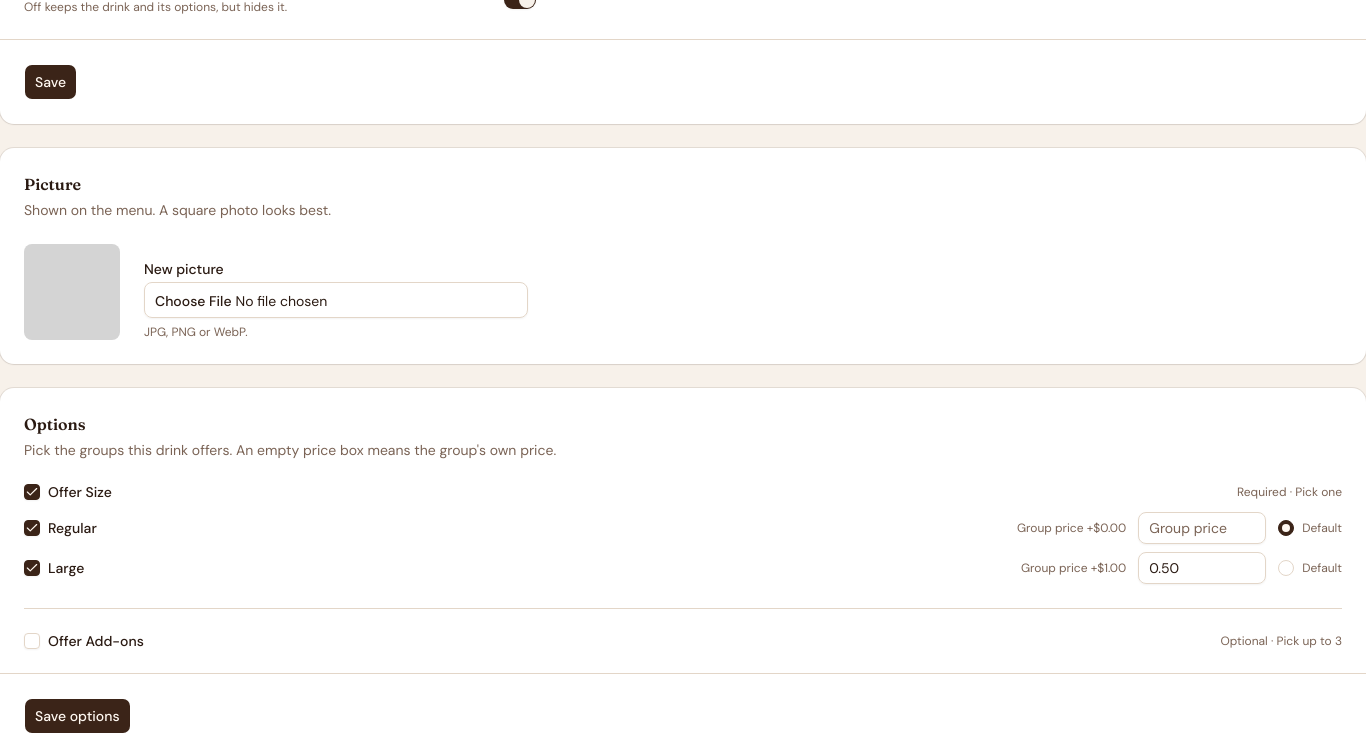
Test: ProductEditPage options (FR-26) › shows the server message when the default is not offered
The image size is (1366, 739).
(page scrolled)
Click the button "Save options" at (77, 716), box [24, 698, 131, 734]
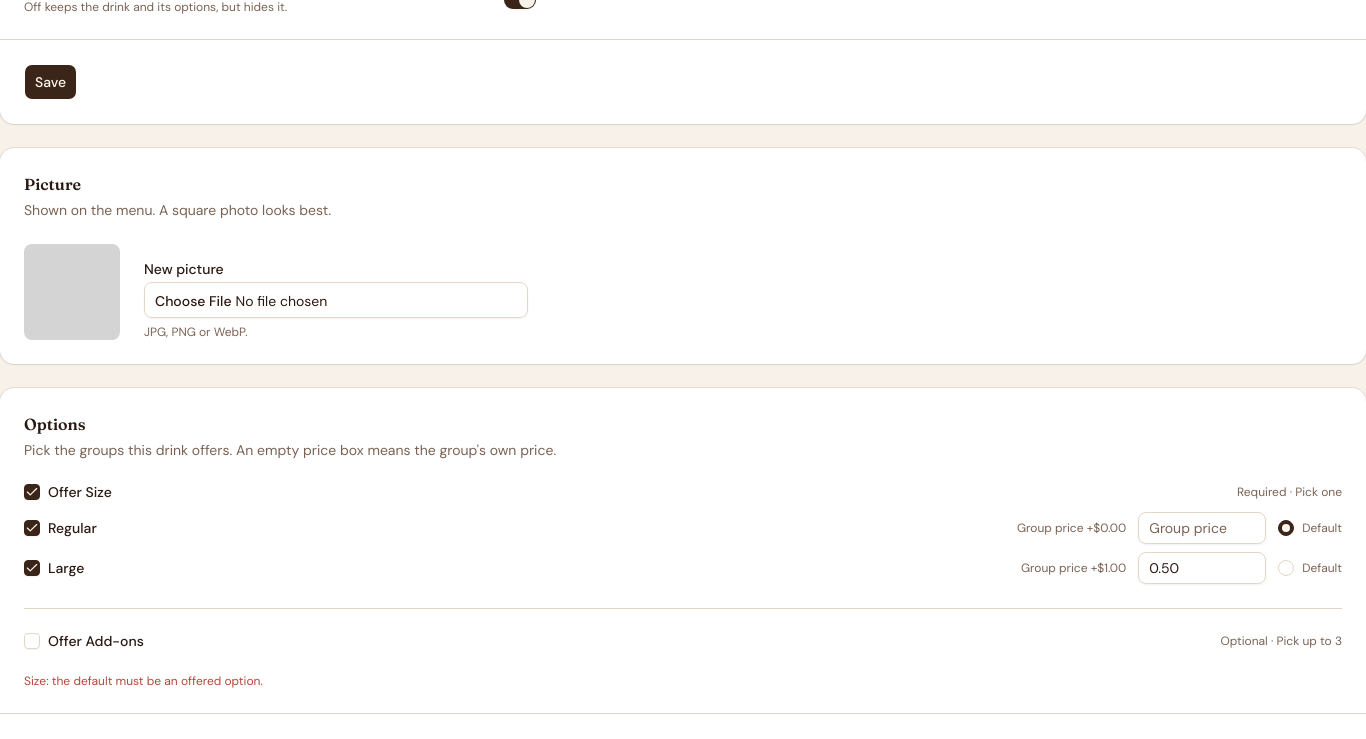
Expected: the text "Size: the default must be an offered option." is shown, [24, 673, 263, 689]
